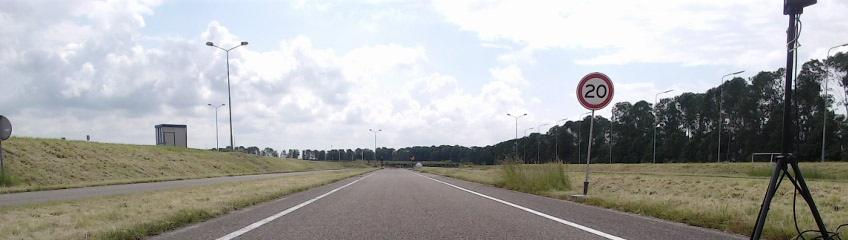Speed-limit-20km-h-: (576, 72, 614, 110)
